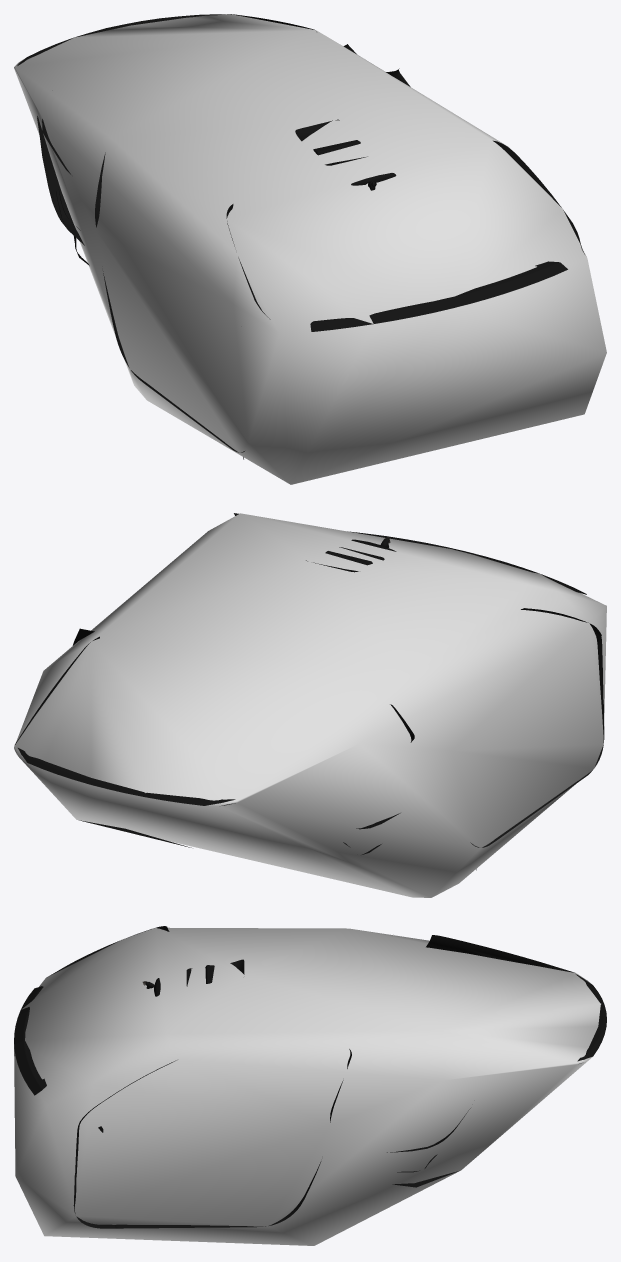
3 renders of one model, top to bottom at view 1: azimuth 30°, elevation 25°; view 2: azimuth 150°, elevation 25°; view 3: azimuth 270°, elevation 25°, orthographic. The views are drawn at different scales.
Parts seen in each view (by area): view 1: interior_stampede_01_col, interior_stampede_01; view 2: interior_stampede_01_col, interior_stampede_01; view 3: interior_stampede_01_col, interior_stampede_01.
Boxes of the visible parts, box(x1,y1,x2,y2) form: interior_stampede_01_col: box(14, 14, 606, 484); interior_stampede_01: box(17, 14, 584, 459); interior_stampede_01_col: box(14, 513, 606, 897); interior_stampede_01: box(14, 513, 604, 870); interior_stampede_01_col: box(14, 927, 600, 1245); interior_stampede_01: box(14, 926, 606, 1228).
Bounding box in the file's own units: 1.5 × 1.08 × 2.65.
Materials: 4 (3 with a texture image).
